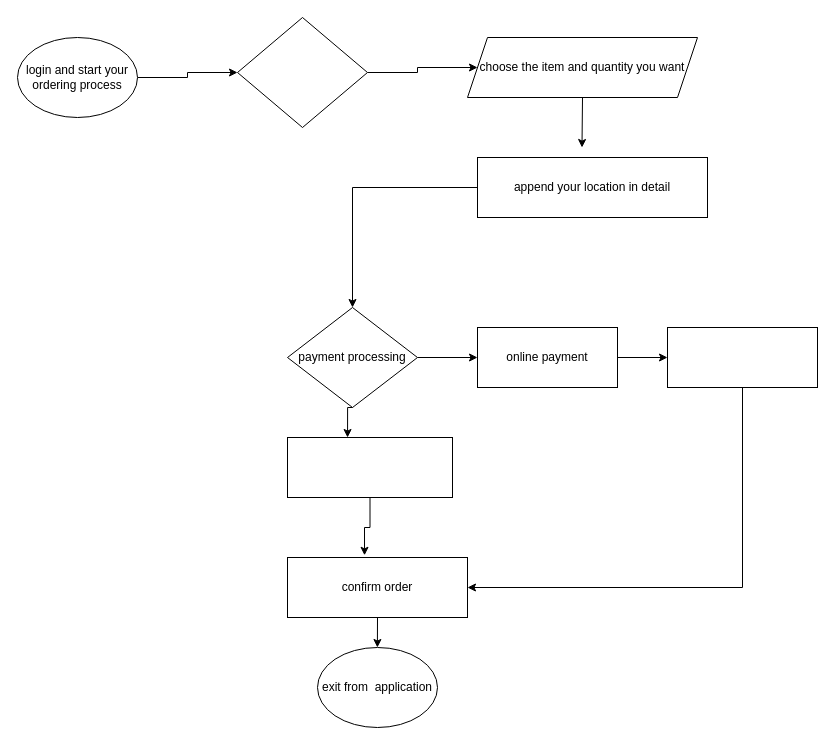
The diagram is 835 pixels wide and 745 high, and some of its shapes have lost their labels. Each missing label, with the centre of its shape:
access card and required credentials: the point at 742,357
offline payment: the point at 369,467
select the restaurant: the point at 302,72
